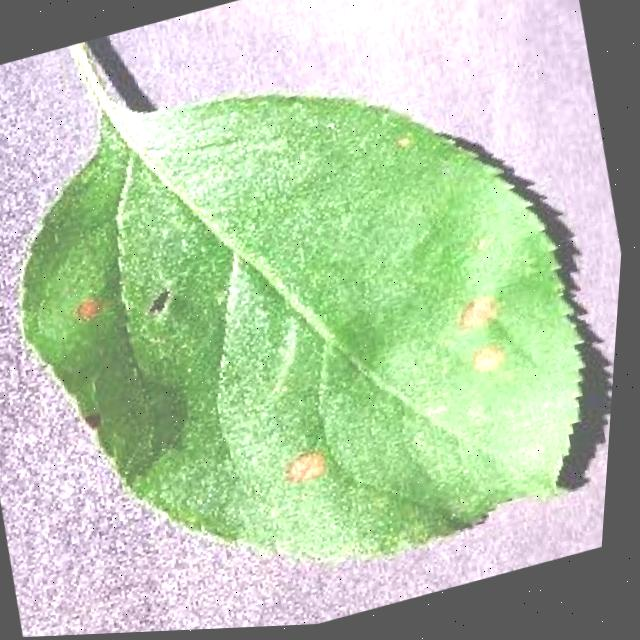black_rot: (436, 276, 519, 349), (264, 431, 339, 502), (449, 330, 515, 392), (57, 288, 115, 349)
